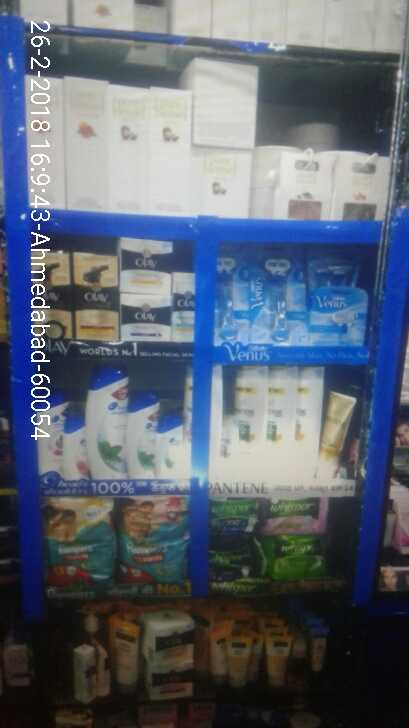venus: (251, 250, 308, 345), (308, 286, 368, 345), (217, 250, 251, 345), (316, 254, 362, 285)
